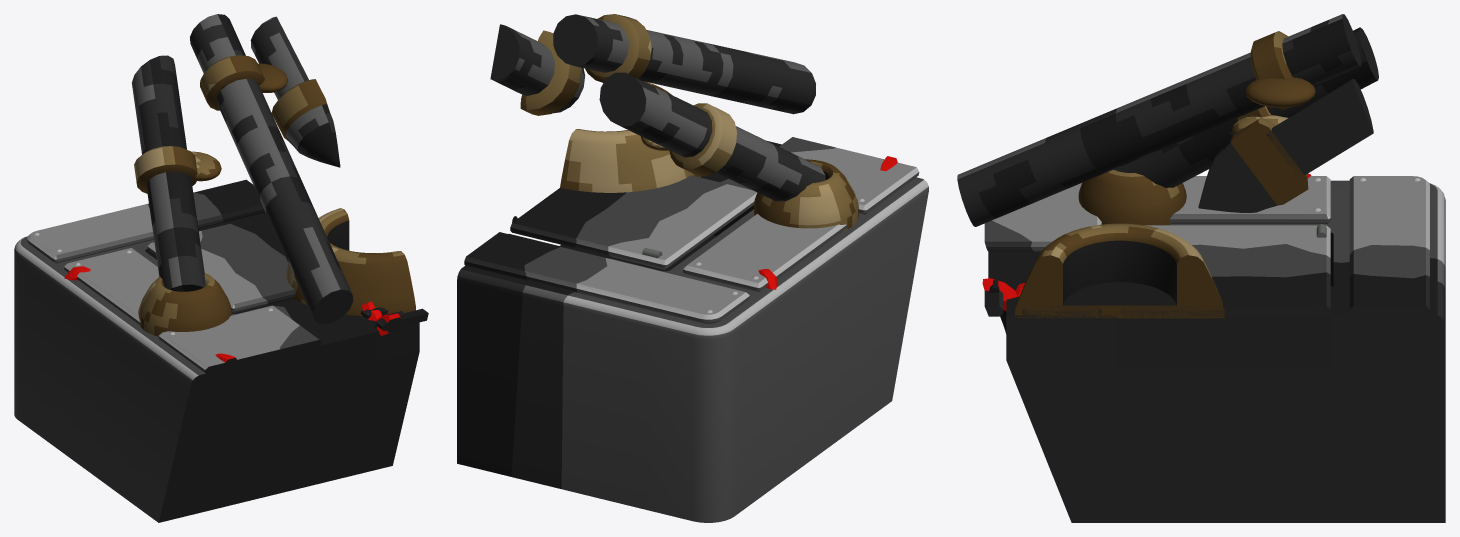
The model's file is asteroid_rig_tl_wreck.glb.
The picture shows the model from 3 angles, left to right: view 1: azimuth 30°, elevation 25°; view 2: azimuth 150°, elevation 25°; view 3: azimuth 270°, elevation 25°; orthographic projection. The views are drawn at different scales.
Parts seen in each view (by area): view 1: asteroid_rig_tl_wreck; view 2: asteroid_rig_tl_wreck; view 3: asteroid_rig_tl_wreck.
Boxes of the visible parts, <box> form: asteroid_rig_tl_wreck: <box>14,14,428,522</box>; asteroid_rig_tl_wreck: <box>457,14,928,522</box>; asteroid_rig_tl_wreck: <box>957,14,1445,522</box>.
Bounding box in the file's own units: 20 × 31.47 × 29.84.
